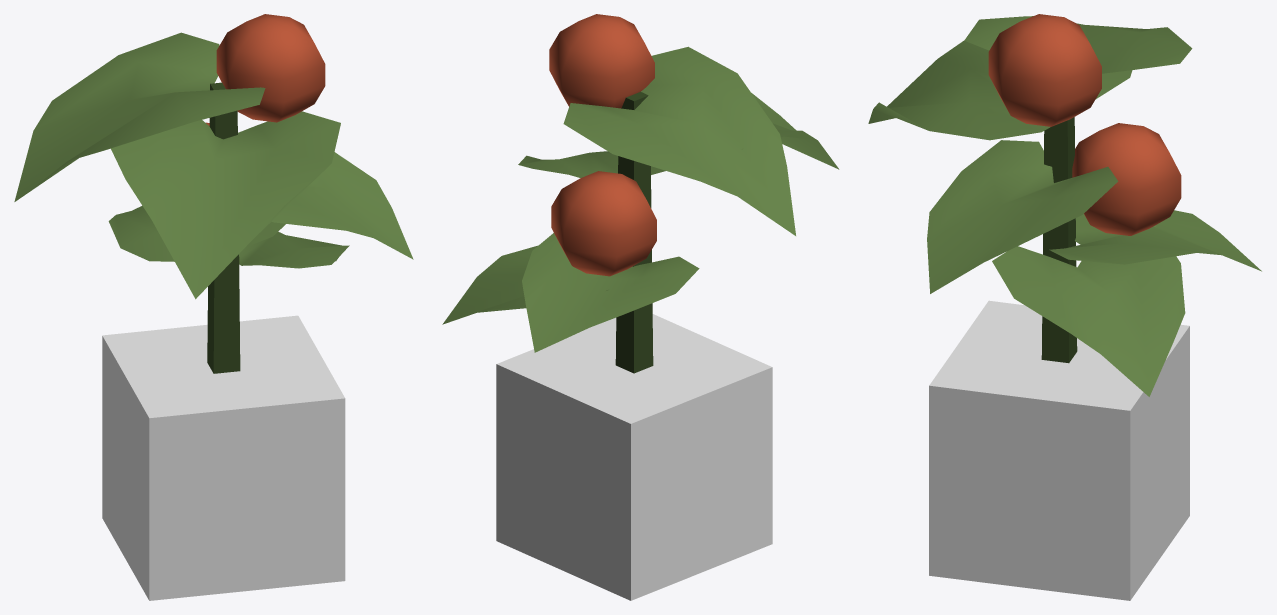
The model's file is plant6.fbx.
3 views of the same model, side by side, from view 1: azimuth 30°, elevation 25°; view 2: azimuth 150°, elevation 25°; view 3: azimuth 270°, elevation 25° (orthographic). The views are drawn at different scales.
Visible parts, largest first — view 1: plant.006, plant6; view 2: plant6, plant.006; view 3: plant.006, plant6.
Part boxes in pixels (<box>): plant.006: <box>14,14,413,373</box>; plant6: <box>102,315,345,600</box>; plant6: <box>496,314,772,600</box>; plant.006: <box>442,14,839,373</box>; plant.006: <box>868,14,1261,396</box>; plant6: <box>929,300,1189,600</box>.
Bounding box in the file's own units: 80.71 × 118 × 77.1.
